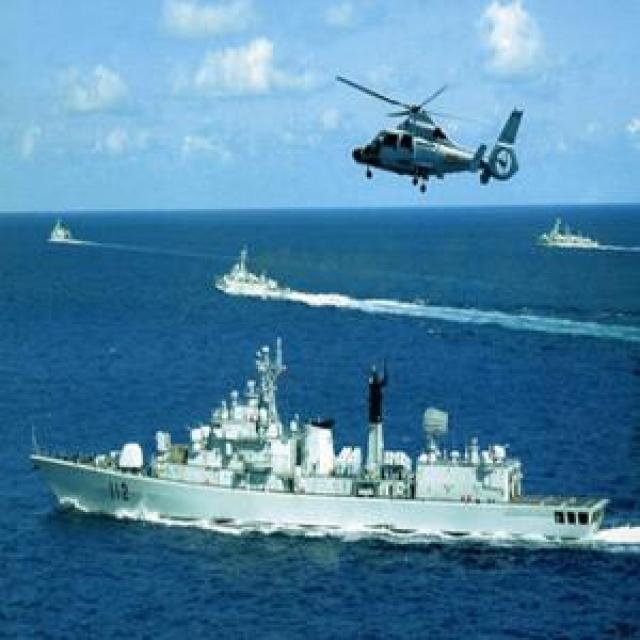navalvessels: (32, 346, 606, 544), (214, 244, 279, 299), (538, 213, 597, 249), (41, 215, 75, 244)
